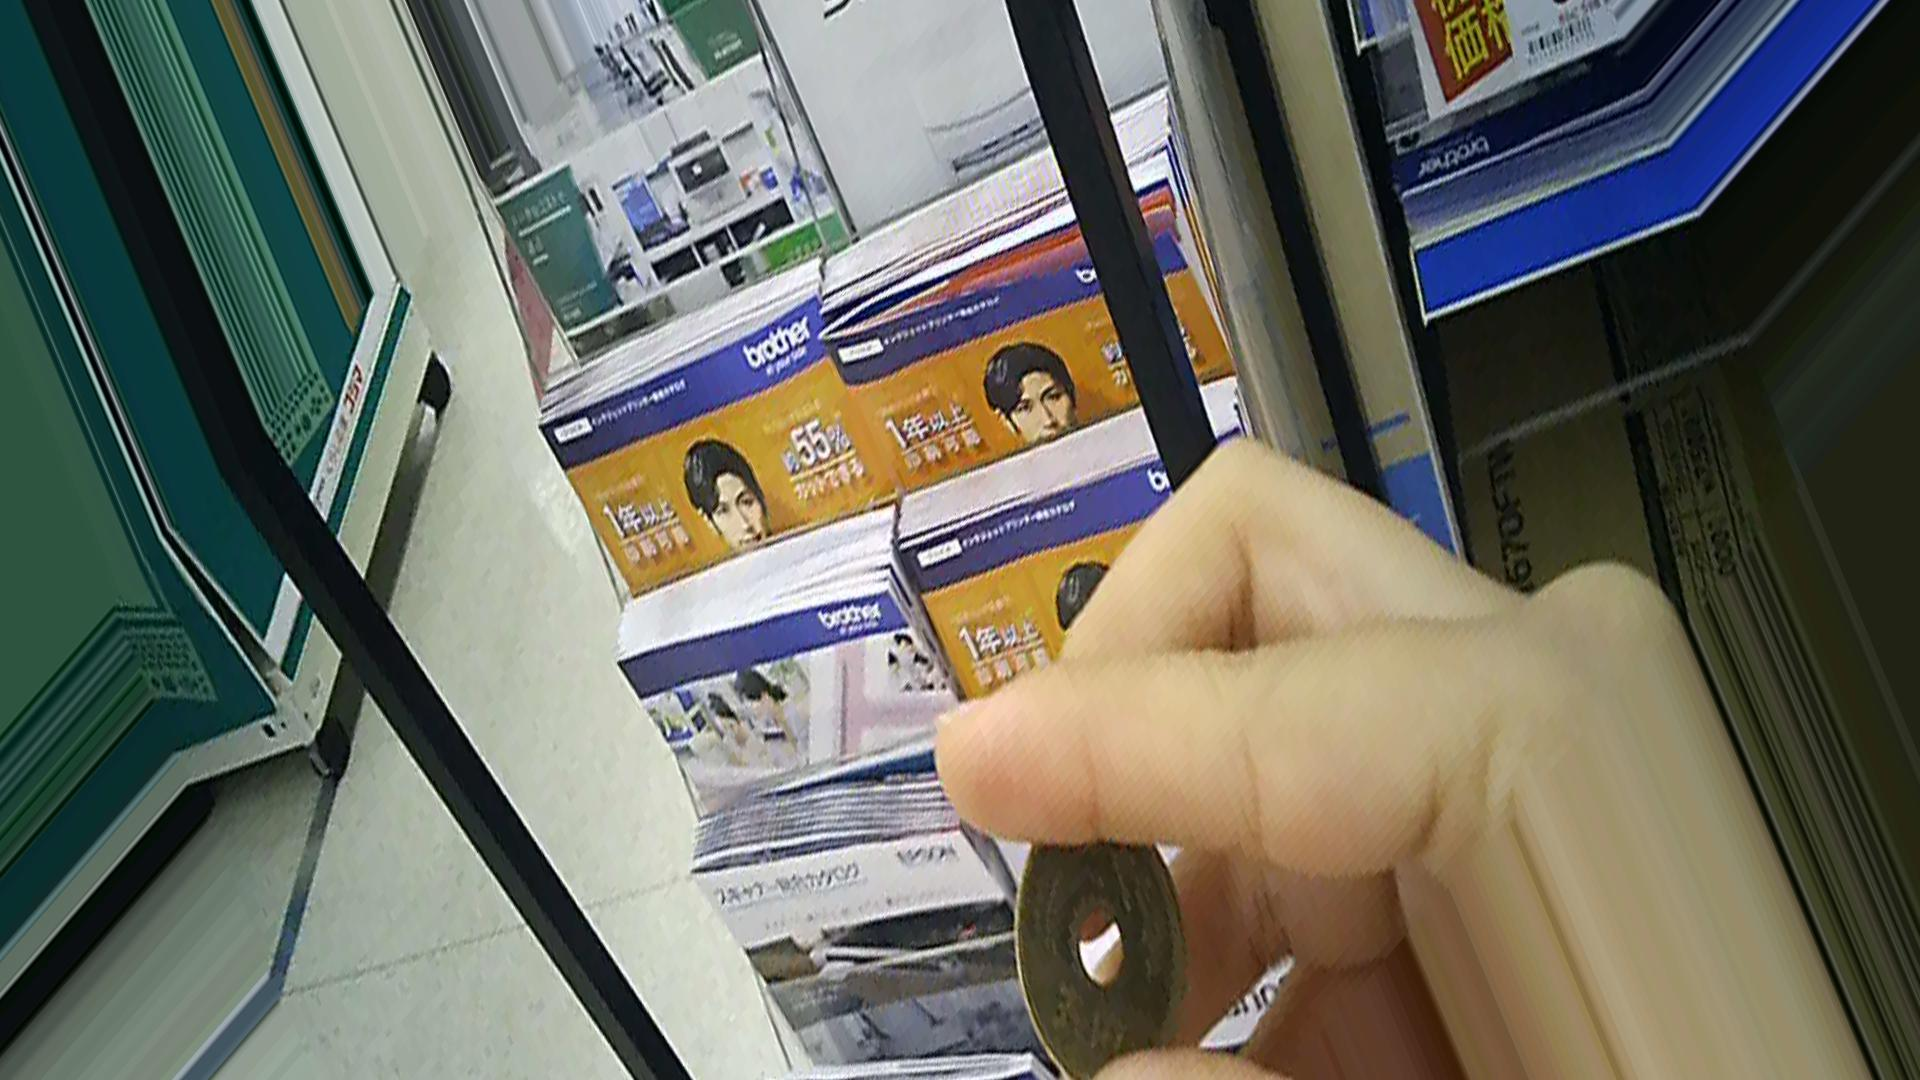5 Yen: (985, 820, 1172, 1079)
